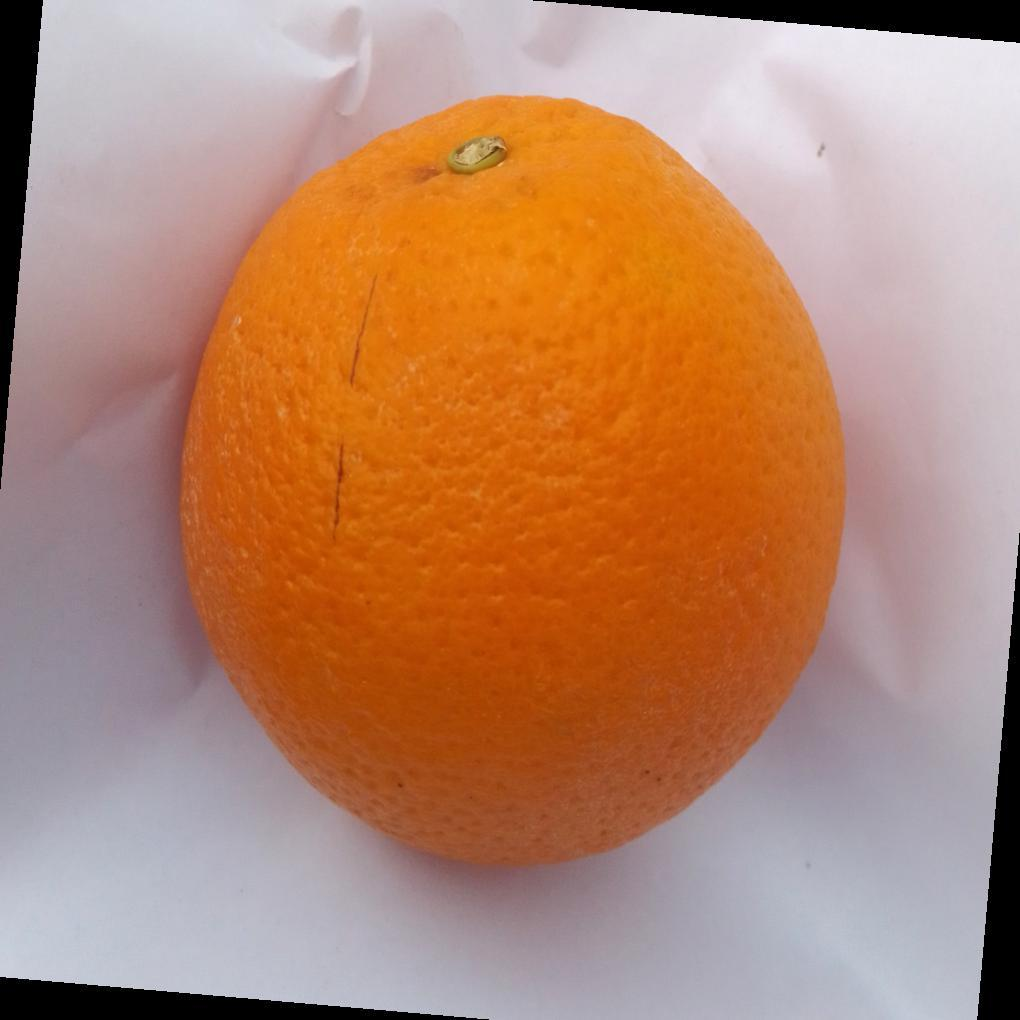FreshGuava: (176, 95, 848, 872)
